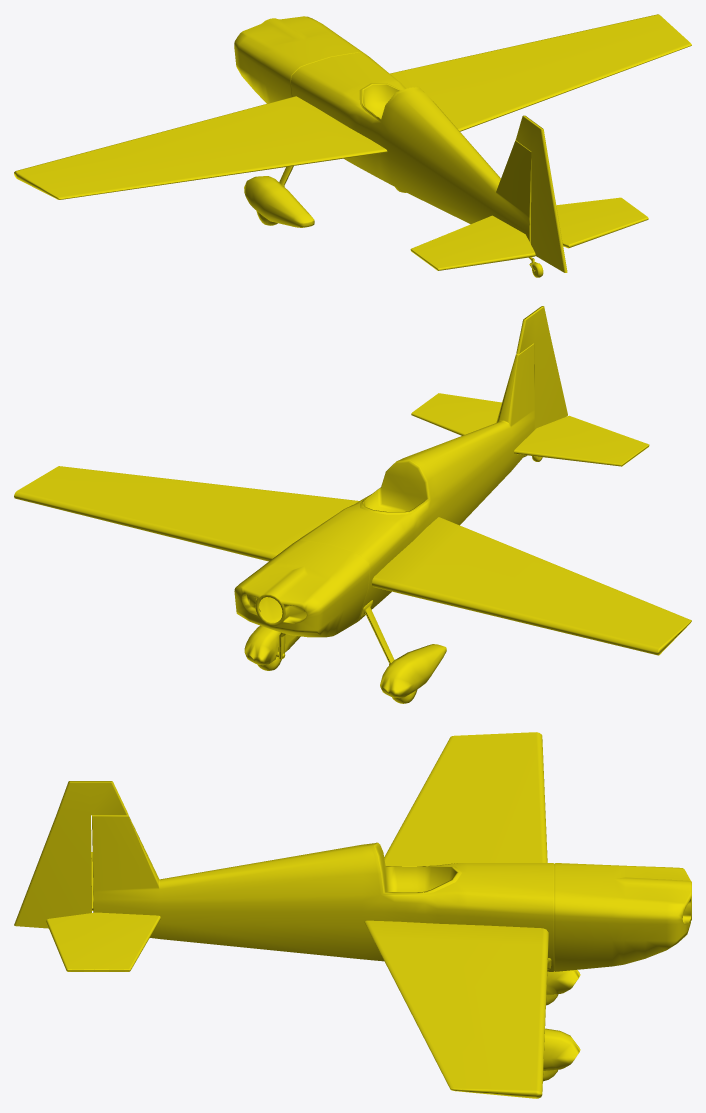
File: Airplane_Lod0.fbx
3 renders of one model, top to bottom at view 1: azimuth 30°, elevation 25°; view 2: azimuth 150°, elevation 25°; view 3: azimuth 270°, elevation 25°, orthographic. The views are drawn at different scales.
Visible parts, largest first — view 1: Airplane_Lod0; view 2: Airplane_Lod0; view 3: Airplane_Lod0.
Part boxes in pixels (left/top/right/bottom): Airplane_Lod0: left=14, top=14, right=691, bottom=277; Airplane_Lod0: left=14, top=306, right=691, bottom=703; Airplane_Lod0: left=14, top=732, right=691, bottom=1098.
Size of the model in its own units: 852 by 289 by 681.
